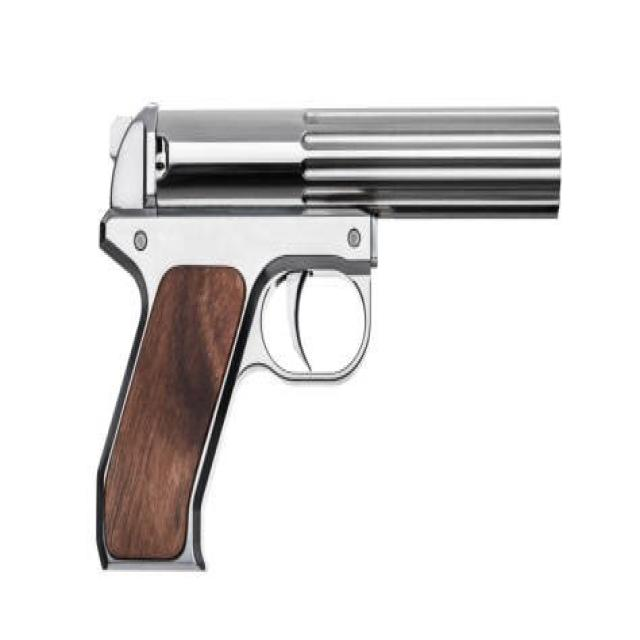pistol: (84, 94, 570, 586)
